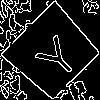Y: (27, 27, 84, 83)
